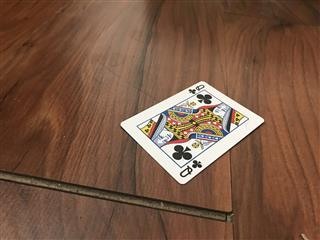QueenOfClubs: (119, 79, 264, 185)
